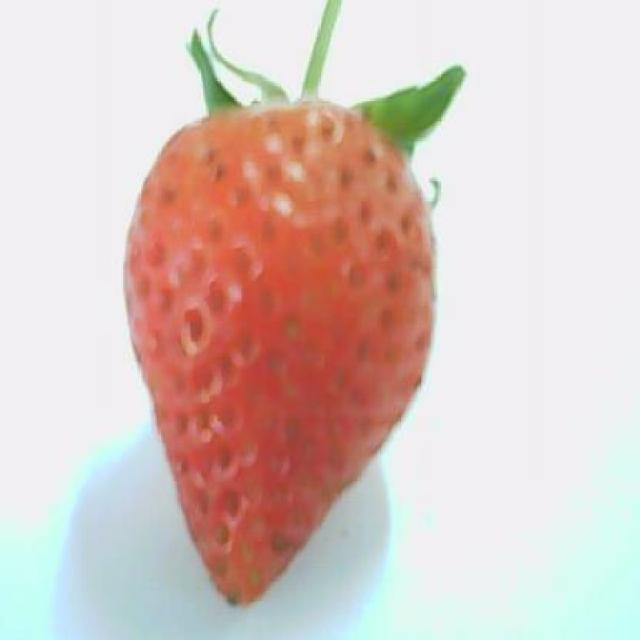strawberry: (125, 0, 465, 603)
